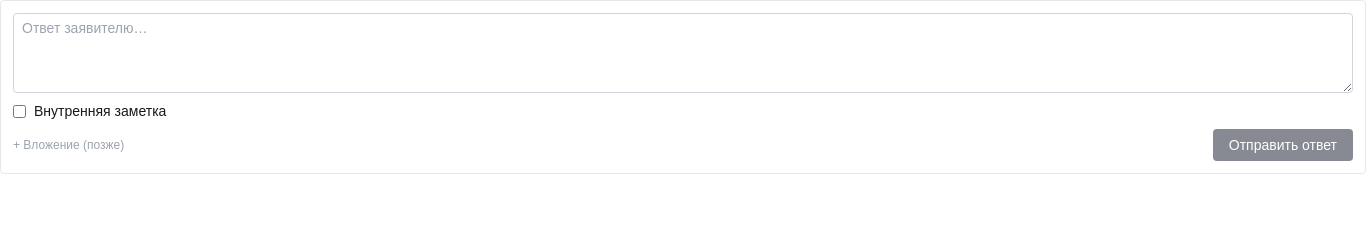
Test: MessageComposer — ошибки › 401 (истёкшая сессия) → алерт
Type "x" into the text box named "Текст сообщения" at (683, 53), box [13,13,1353,93]
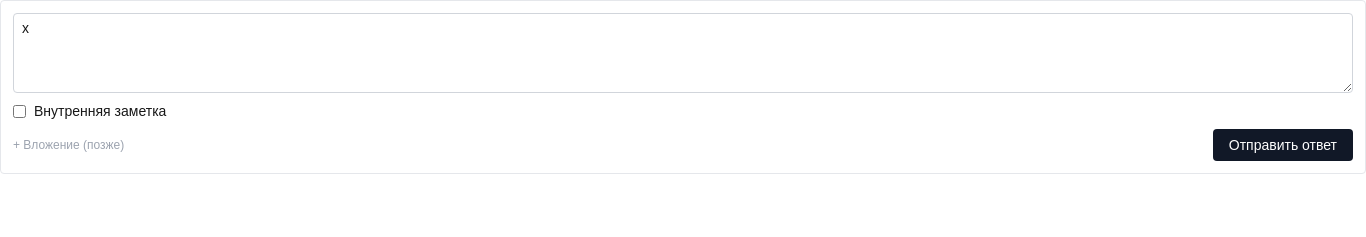
Click the button "Отправить ответ" at (1283, 145), box [1213,129,1353,161]
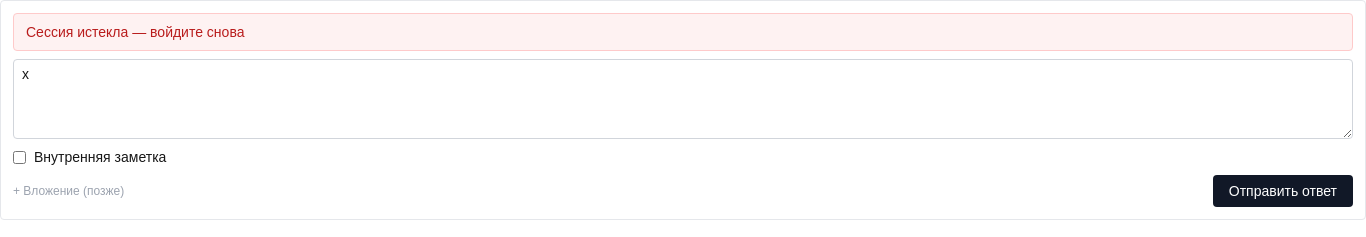
Now the message shows "Сессия истекла", box [26,24,244,40]
